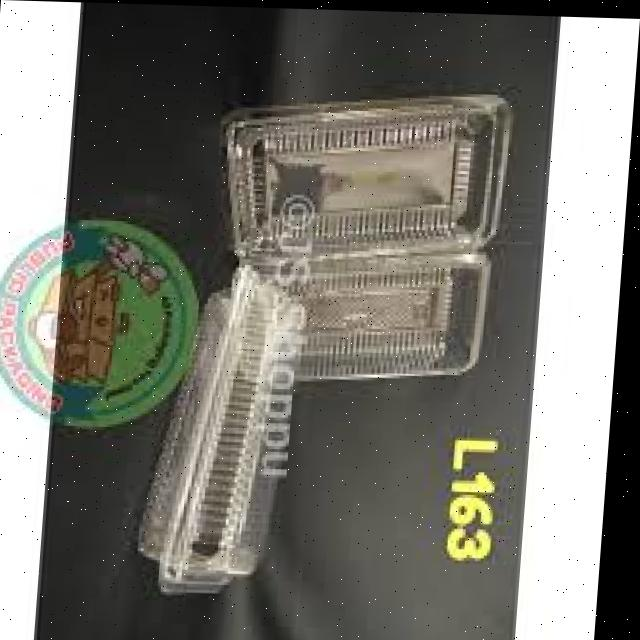disposable: (123, 267, 336, 608)
